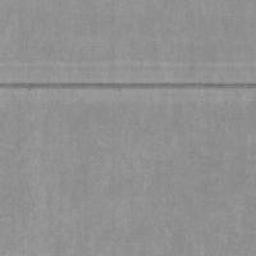Welding line: (0, 82, 256, 90)
